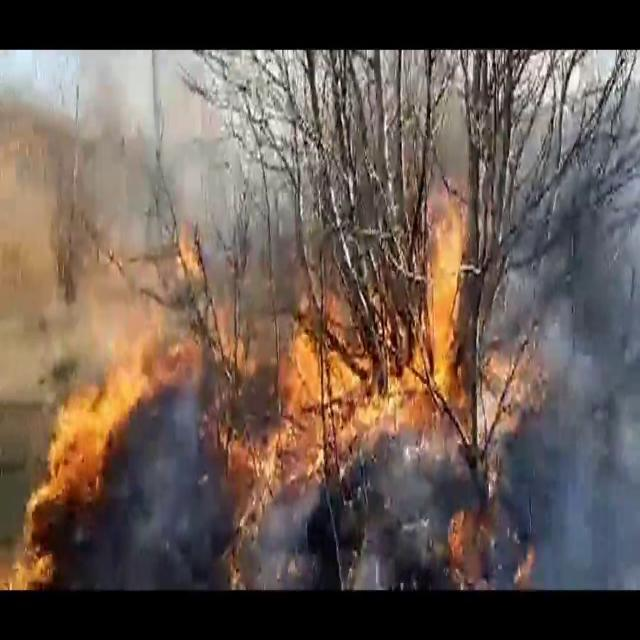Fire: (216, 158, 549, 541), (0, 325, 239, 586)
Smoke: (480, 71, 640, 580)
